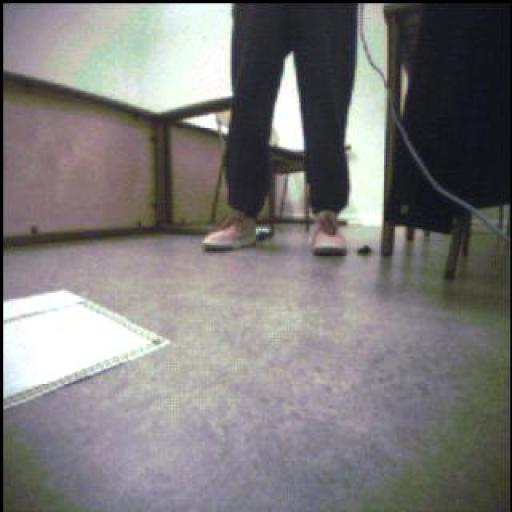Pad: (5, 280, 161, 414)
